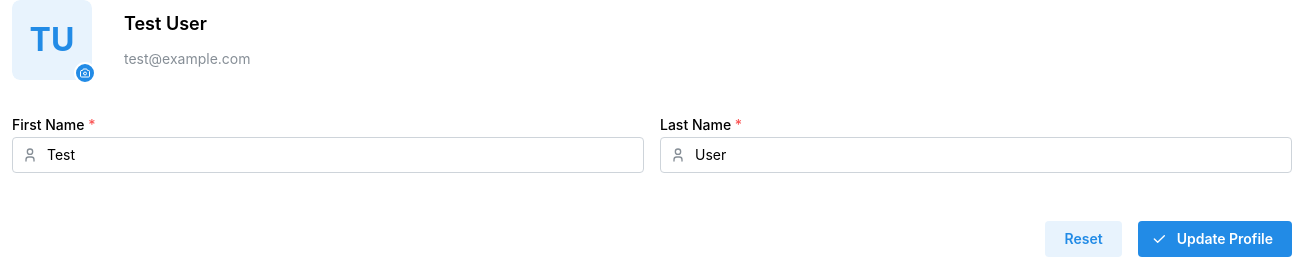
Test: ProfileForm › should show loading state during submission
Click the button "Update Profile" at (1215, 239), box [1138,221,1292,257]
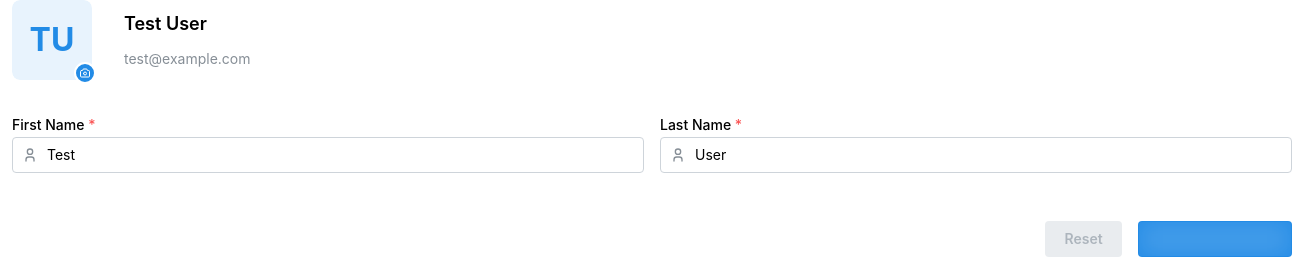
Result: the 2nd button named "update profile" is disabled at [1138,221,1292,257]
